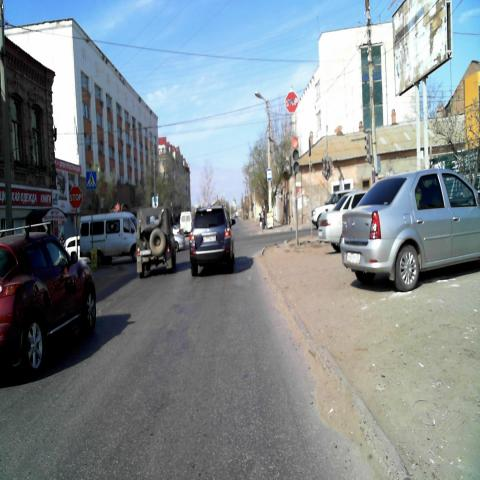5_19_1: (85, 170, 97, 190)
